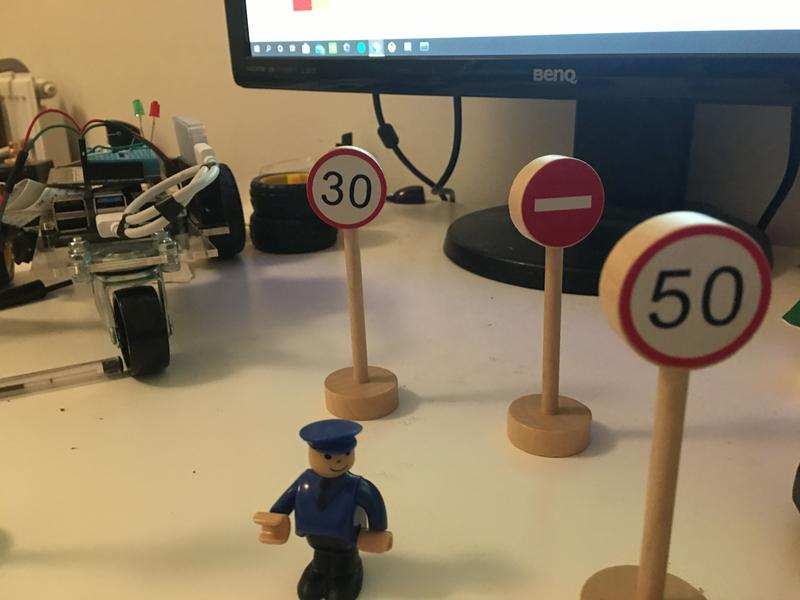Traffic_Sign_30: (306, 150, 385, 229)
Traffic_Sign_50: (614, 229, 770, 367)
Traffic_Sign_No_Entry: (520, 159, 603, 248)
person: (254, 414, 398, 600)
